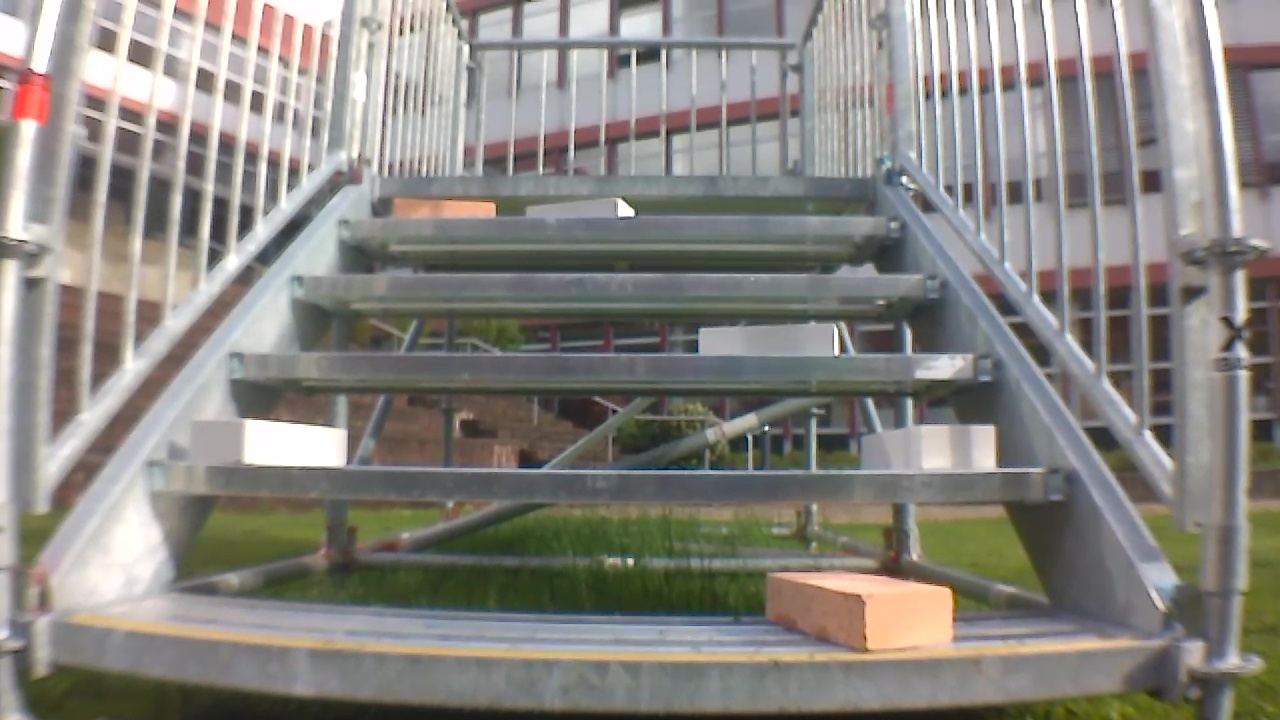brick: (767, 574, 950, 648), (191, 420, 346, 464), (862, 425, 994, 471), (700, 324, 837, 355), (395, 196, 496, 217), (527, 197, 634, 216)
edge: (52, 619, 1161, 712), (145, 462, 1065, 503), (223, 352, 1001, 380), (289, 274, 949, 298), (340, 217, 908, 238), (379, 175, 877, 198)
stairs: (2, 3, 1257, 714)
steps: (45, 162, 1169, 717)
